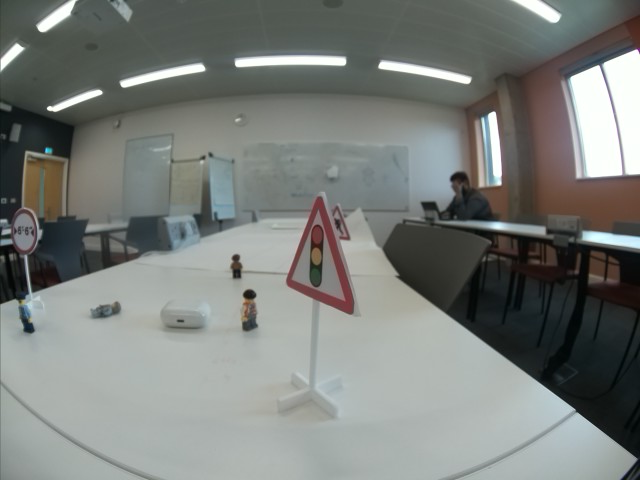6ft6: (11, 208, 40, 254)
Lego Man: (14, 289, 37, 334), (239, 285, 260, 333), (89, 299, 121, 318), (229, 252, 245, 279)
Roadworks: (329, 203, 353, 241)
Traffic lights: (284, 194, 363, 315)
